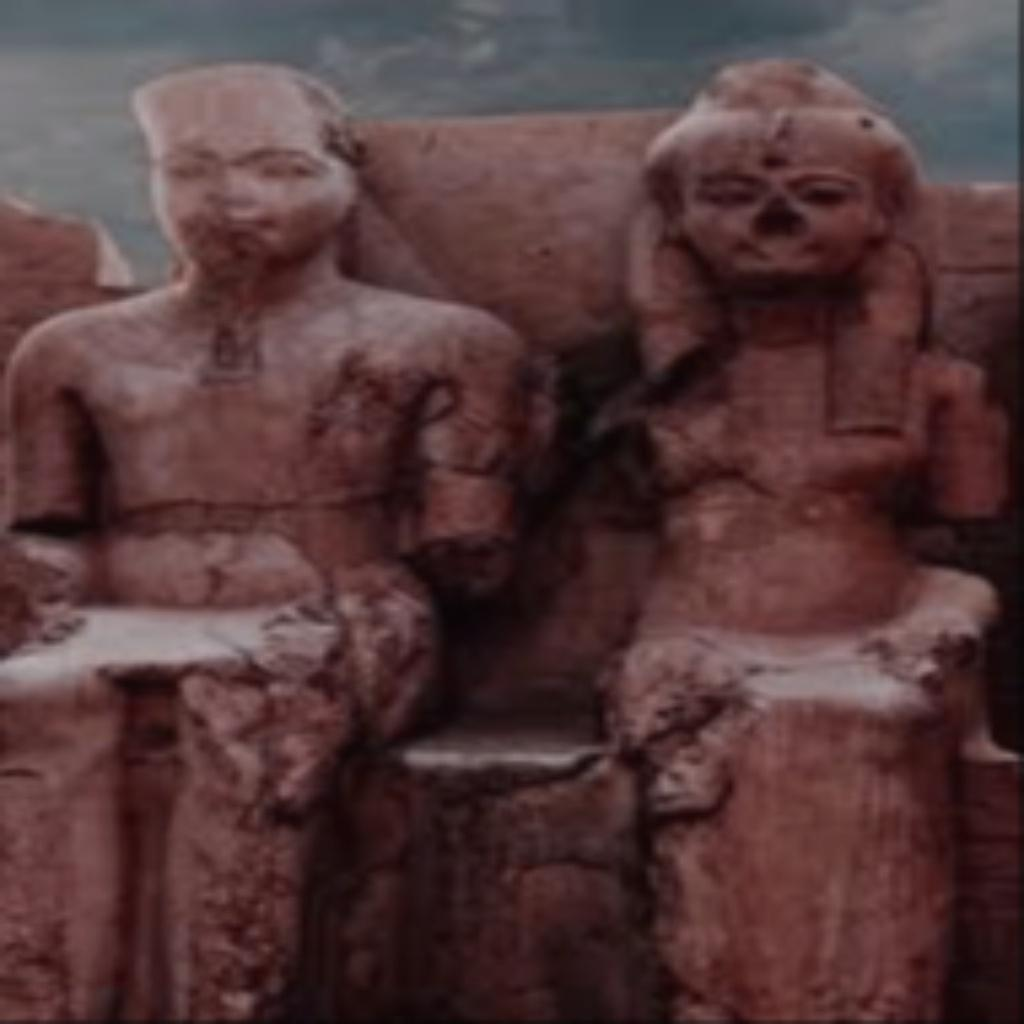Statue of Ankhesenamun: (588, 50, 1018, 1020)
Statue of Tutankhamun: (0, 54, 534, 1020)
